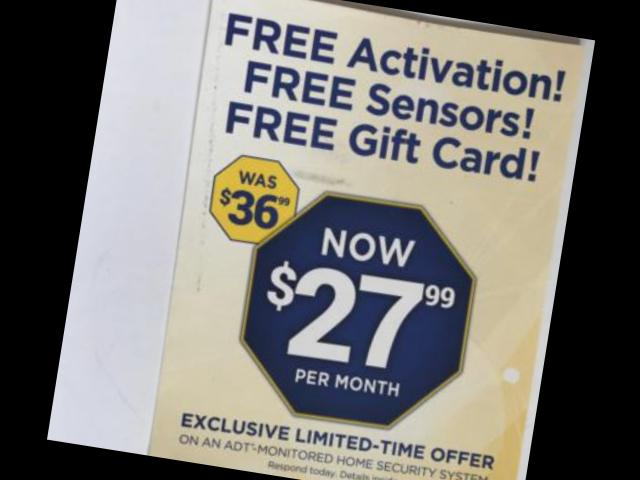cardboard paper: (146, 0, 578, 480)
